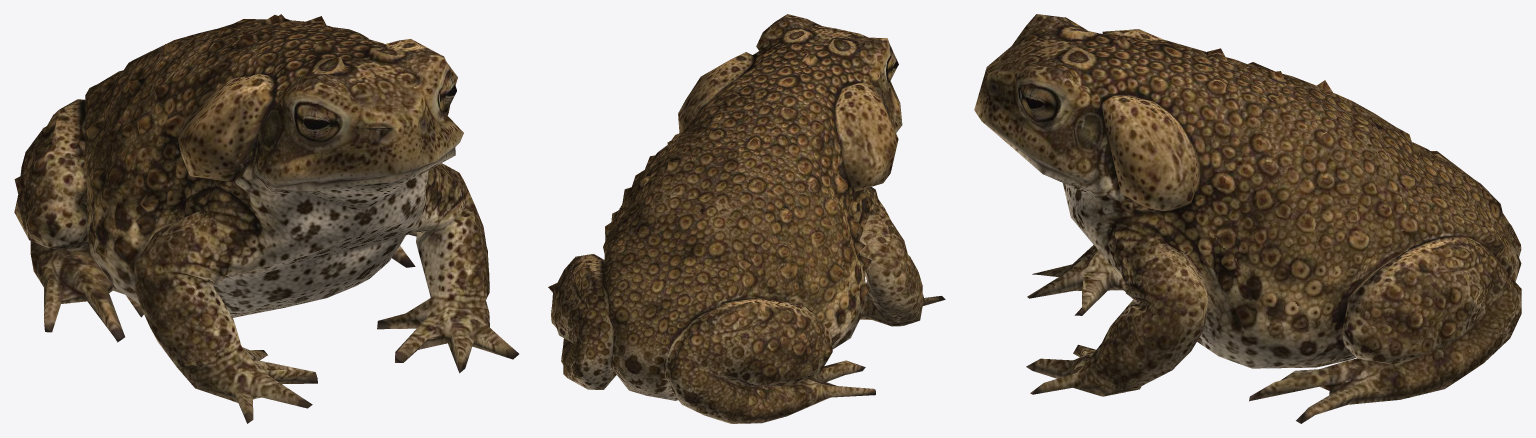
Rendered from toad.glb.
The picture shows the model from 3 angles, left to right: view 1: azimuth 30°, elevation 25°; view 2: azimuth 150°, elevation 25°; view 3: azimuth 270°, elevation 25°; orthographic projection. The views are drawn at different scales.
Parts seen in each view (by area): view 1: Model; view 2: Model; view 3: Model.
Boxes of the visible parts, x1,y1,x2,y2 form: Model: [14, 14, 518, 423]; Model: [548, 14, 945, 423]; Model: [974, 14, 1521, 423].
Size of the model in its own units: 1.45 by 1.15 by 1.9.
1 material, 1 textured.
